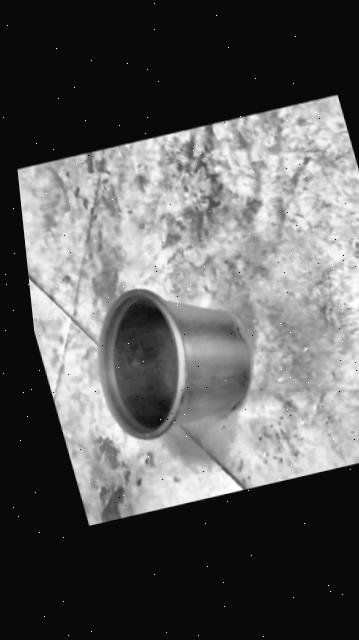pot: (73, 268, 264, 449)
